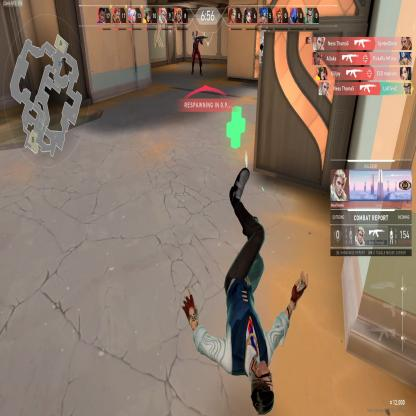enemy: (190, 27, 203, 77)
